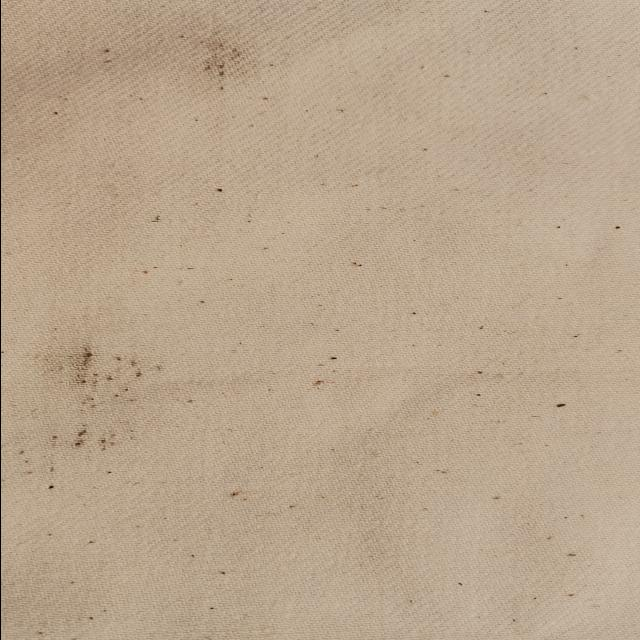taaaches: (3, 337, 188, 475), (168, 26, 290, 94)
